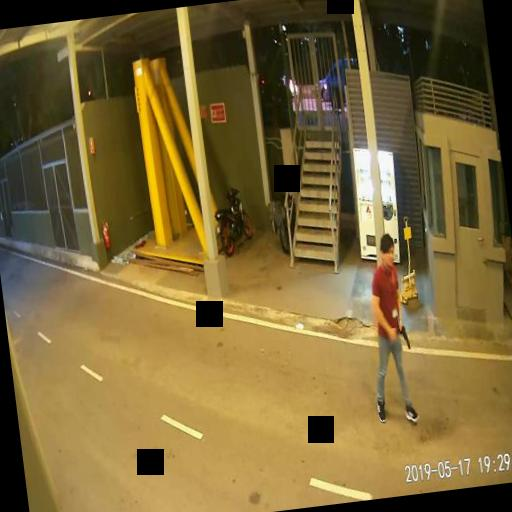Handgun: (398, 322, 410, 350)
